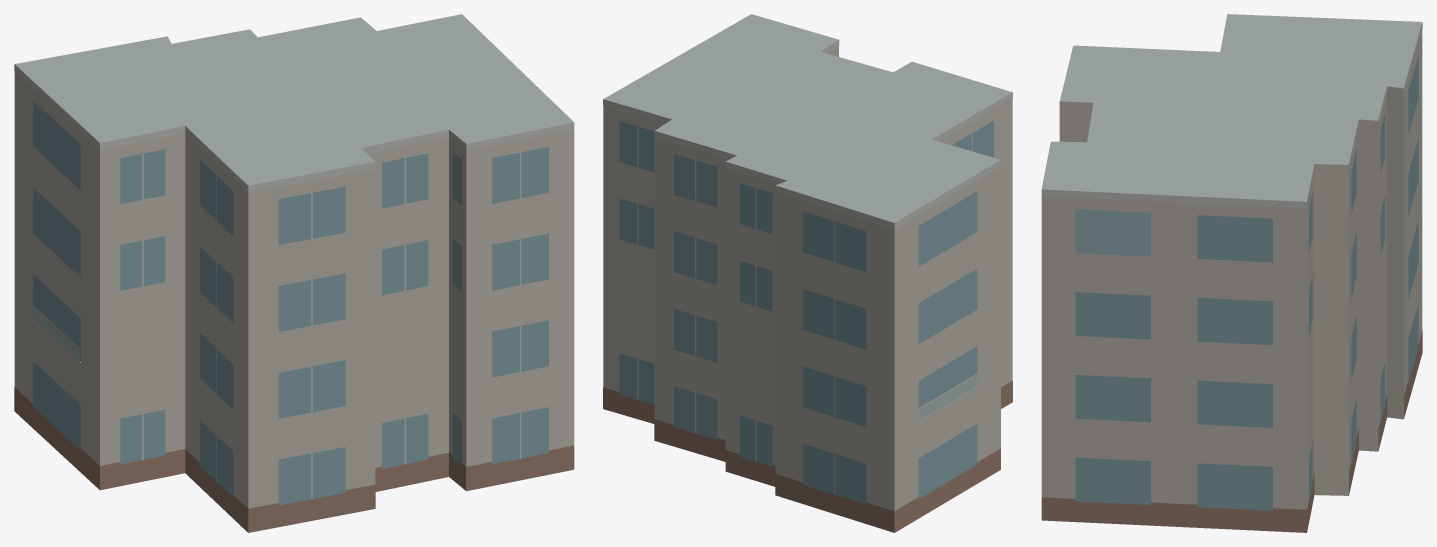
File: survey-upis-32812815.glb
The picture shows the model from 3 angles, left to right: view 1: azimuth 30°, elevation 25°; view 2: azimuth 150°, elevation 25°; view 3: azimuth 270°, elevation 25°; orthographic projection. The views are drawn at different scales.
Parts seen in each view (by area): view 1: survey-upis-32812815.tmp; view 2: survey-upis-32812815.tmp; view 3: survey-upis-32812815.tmp.
Boxes of the visible parts, box(x1,y1,x2,y2) form: survey-upis-32812815.tmp: box(14, 14, 574, 532); survey-upis-32812815.tmp: box(603, 14, 1012, 532); survey-upis-32812815.tmp: box(1041, 14, 1422, 532).
Size of the model in its own units: 14.62 by 12 by 12.53.
